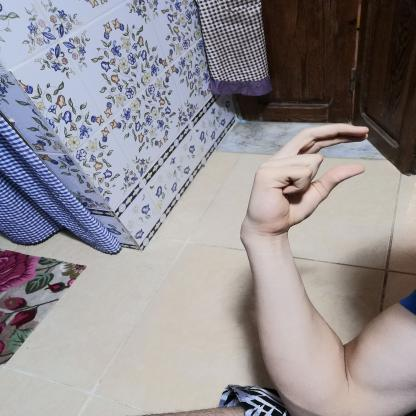DHELL: (235, 118, 382, 239)
